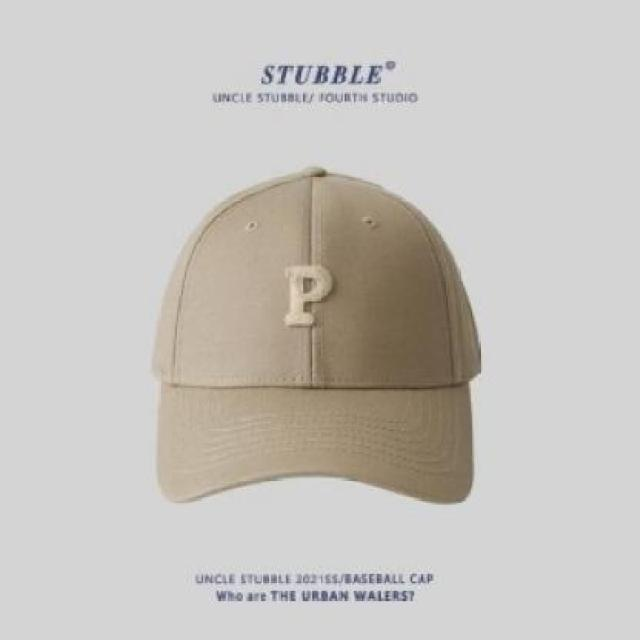hat: (156, 169, 482, 505)
